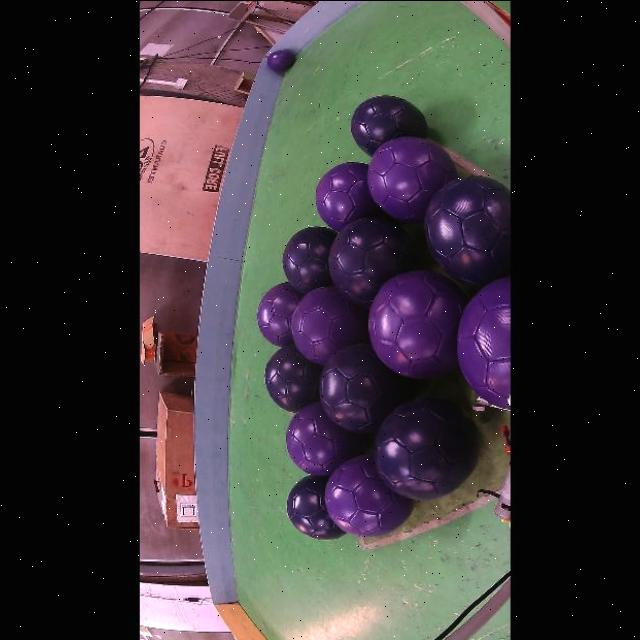B: (375, 396, 478, 499), (425, 174, 511, 286), (320, 343, 407, 432), (330, 217, 415, 306), (351, 94, 428, 155), (265, 343, 323, 412), (287, 475, 346, 539), (283, 226, 336, 293)
P: (370, 270, 468, 378), (368, 135, 459, 222), (326, 454, 412, 535), (459, 276, 511, 408), (291, 285, 370, 364), (287, 401, 360, 475), (315, 161, 380, 231), (257, 281, 304, 346), (268, 49, 295, 71)
